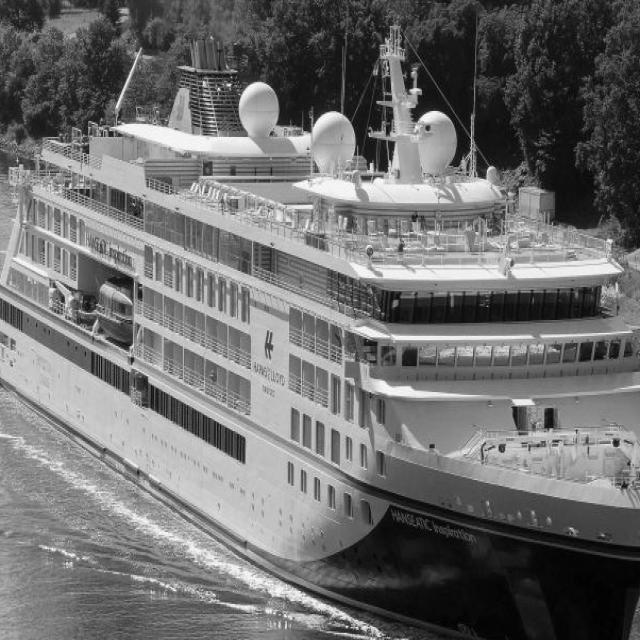cruises: (1, 22, 640, 640)
